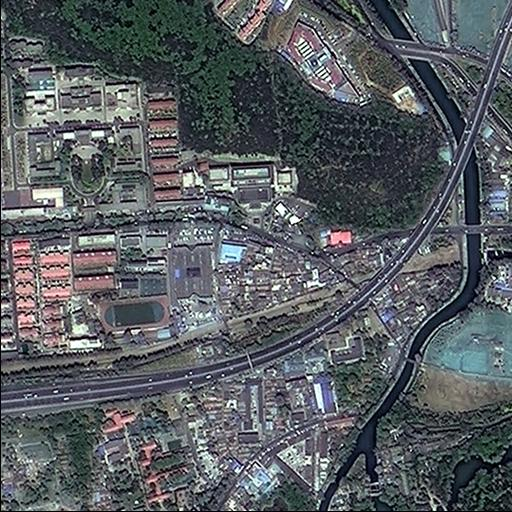school: (98, 231, 171, 352)
